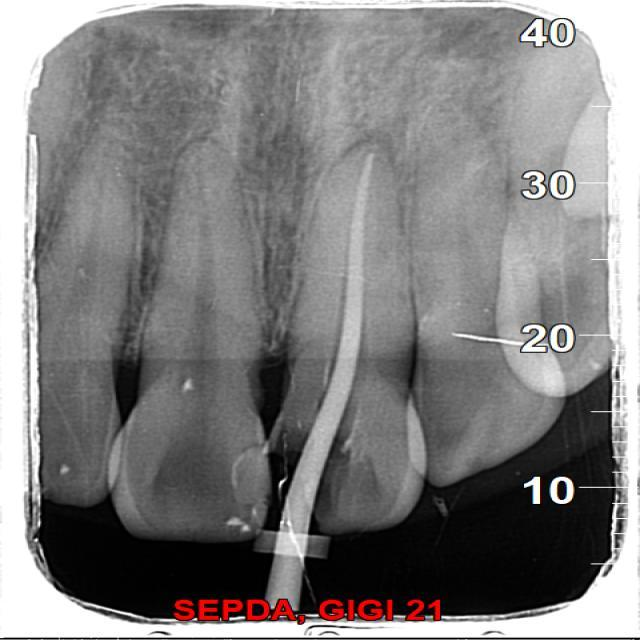individual-tooth-8tto: (97, 137, 279, 549), (408, 95, 574, 471), (263, 141, 417, 537)
